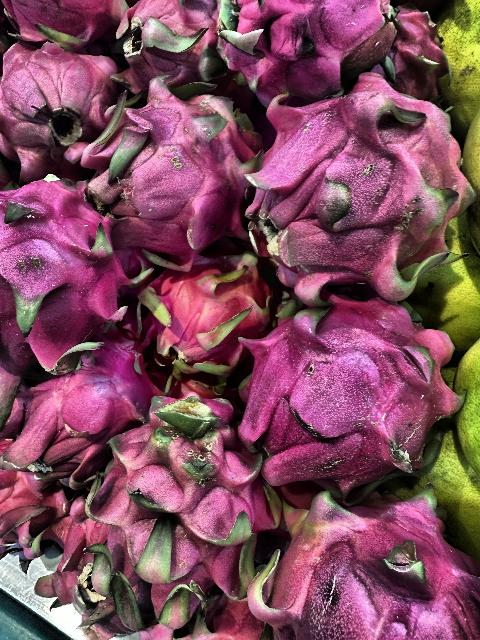buah-naga-belum-matang: (103, 385, 266, 627)
buah-naga-matang: (245, 87, 475, 295), (244, 294, 462, 488), (260, 482, 480, 640), (77, 80, 259, 270), (4, 166, 128, 380), (14, 357, 152, 513), (4, 31, 122, 185), (211, 0, 395, 94), (110, 0, 226, 96)
